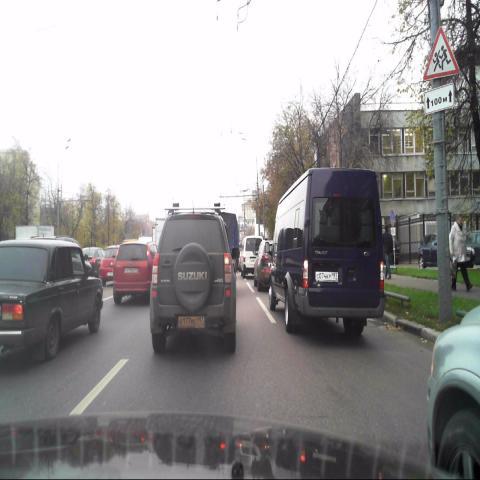8_2_1: (423, 85, 456, 113)
